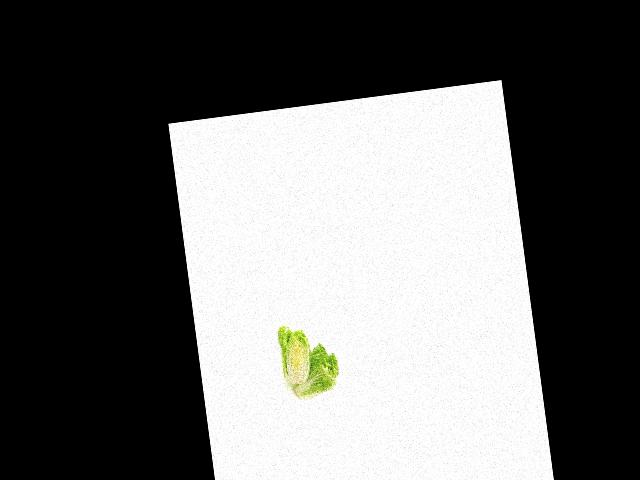lettuce: (284, 337, 344, 402)
